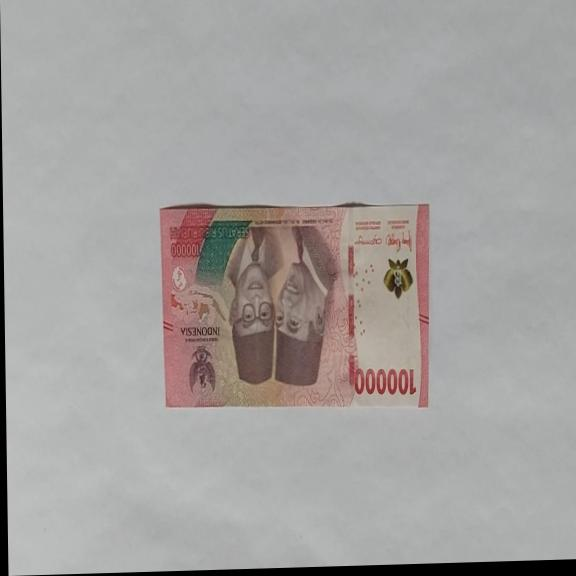Kertas: (159, 196, 432, 414), (353, 364, 417, 398)
